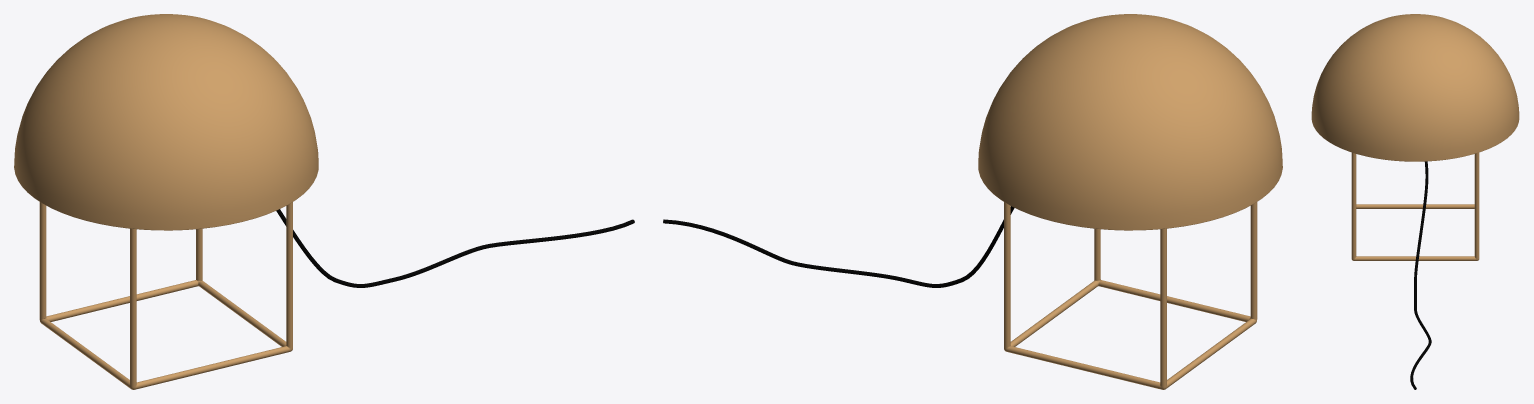
Rendered from Almerich_Coco_S_mat(4).fbx.
3 views of the same model, side by side, from view 1: azimuth 30°, elevation 25°; view 2: azimuth 150°, elevation 25°; view 3: azimuth 270°, elevation 25° (orthographic). The views are drawn at different scales.
Visible parts, largest first — view 1: Almerich_Coco_S_mat4; view 2: Almerich_Coco_S_mat4; view 3: Almerich_Coco_S_mat4.
Part boxes in pixels (x1,y1,x2,y2): Almerich_Coco_S_mat4: [14, 14, 634, 389]; Almerich_Coco_S_mat4: [663, 14, 1282, 389]; Almerich_Coco_S_mat4: [1311, 14, 1519, 389].
Bounding box in the file's own units: 56.75 × 25 × 28.
